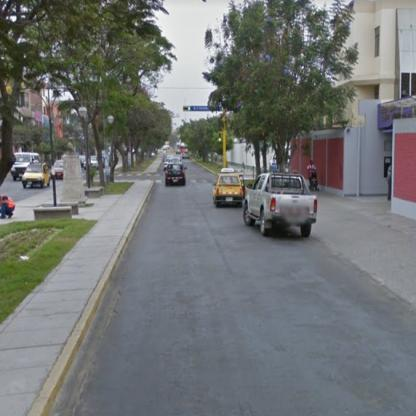Peaton: (307, 161, 317, 188), (387, 167, 392, 199)
Pista: (50, 155, 415, 415), (3, 166, 103, 206)
Vehiculo: (245, 174, 317, 239), (214, 173, 246, 211), (12, 152, 41, 184), (23, 161, 53, 190), (167, 162, 187, 187), (53, 160, 65, 181), (183, 152, 190, 160)
